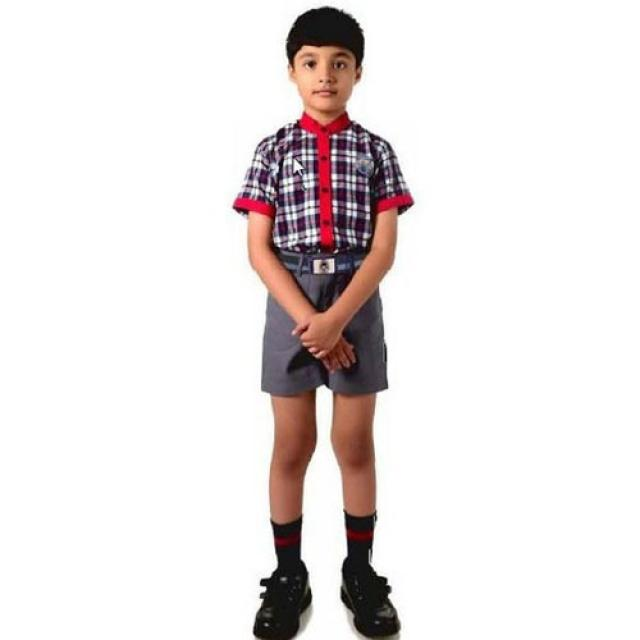child: (219, 4, 420, 636)
